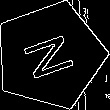N_E: (18, 28, 81, 83)
